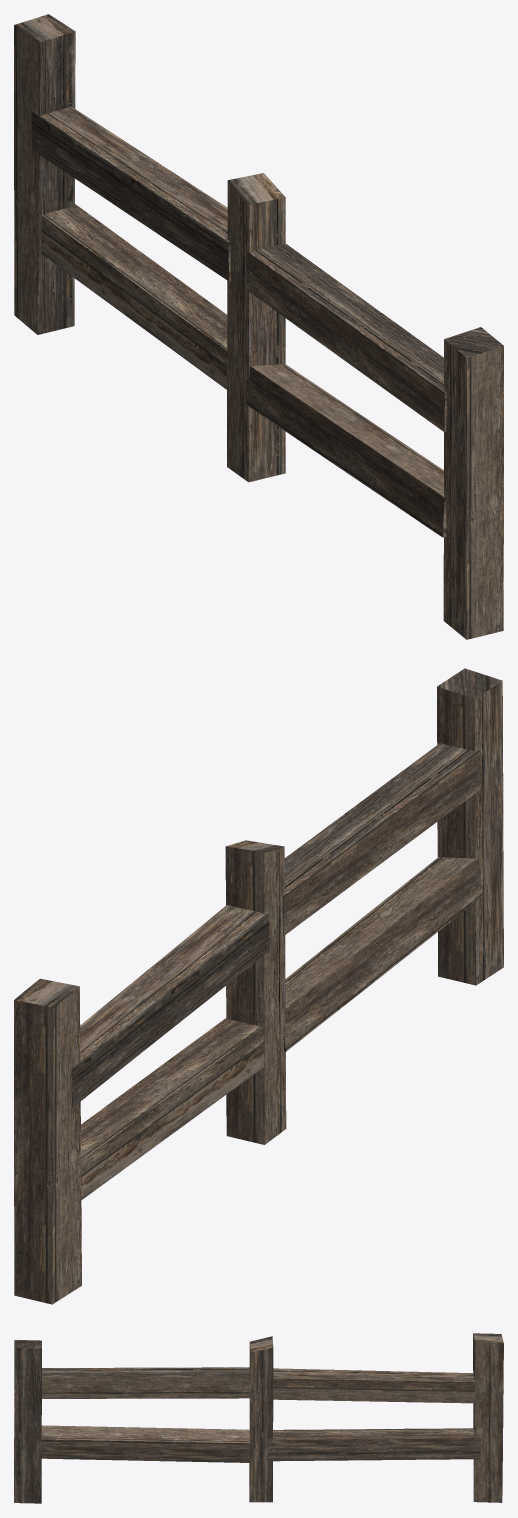
The model's file is fence2.obj.
3 views of the same model, one above another, from view 1: azimuth 30°, elevation 25°; view 2: azimuth 150°, elevation 25°; view 3: azimuth 270°, elevation 25° (orthographic). The views are drawn at different scales.
Visible parts, largest first — view 1: WoodLog_Plank; view 2: WoodLog_Plank; view 3: WoodLog_Plank.
Boxes of the visible parts, box(x1,y1,x2,y2) form: WoodLog_Plank: box(14, 14, 503, 639); WoodLog_Plank: box(14, 668, 503, 1304); WoodLog_Plank: box(14, 1333, 503, 1503).
Bounding box in the file's own units: 0.2561 × 1.51 × 4.18.
Materials: 1 (1 with a texture image).
